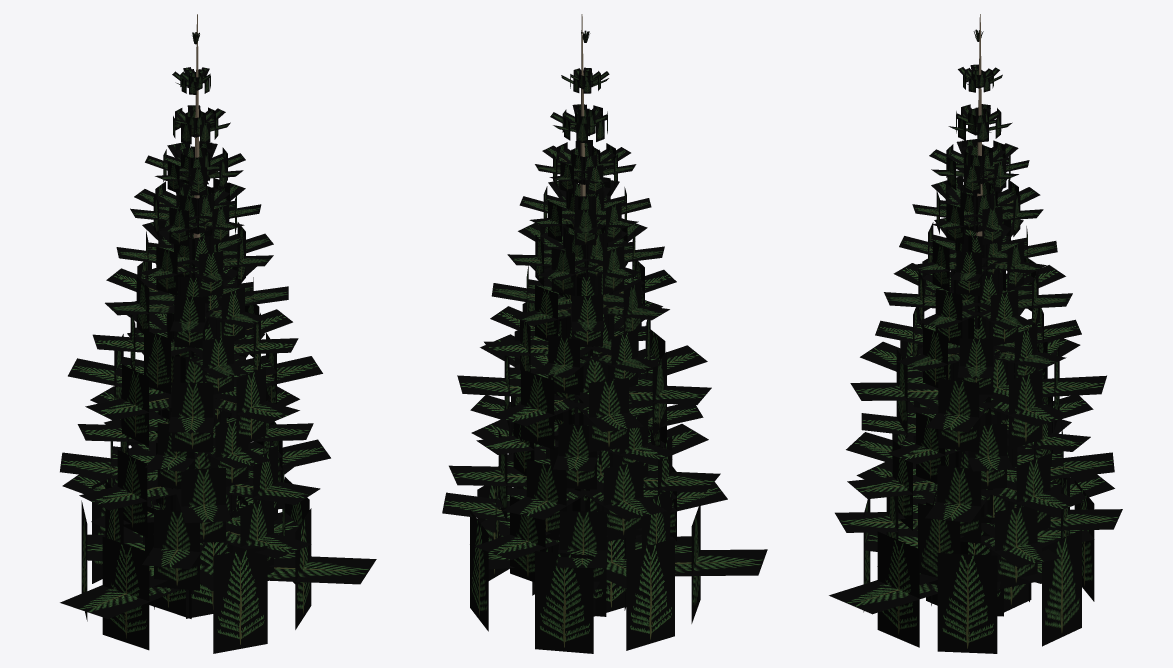
Rendered from Larch_1_LOD1.glb.
The picture shows the model from 3 angles, left to right: view 1: azimuth 30°, elevation 25°; view 2: azimuth 150°, elevation 25°; view 3: azimuth 270°, elevation 25°; orthographic projection.
Parts seen in each view (by area): view 1: Larch_1_LOD1; view 2: Larch_1_LOD1; view 3: Larch_1_LOD1.
Part boxes in pixels (<box>): Larch_1_LOD1: <box>60,14,376,653</box>; Larch_1_LOD1: <box>442,14,767,653</box>; Larch_1_LOD1: <box>829,14,1122,653</box>.
Size of the model in its own units: 11.92 by 21.59 by 11.98.
Materials: 2 (1 with a texture image).
